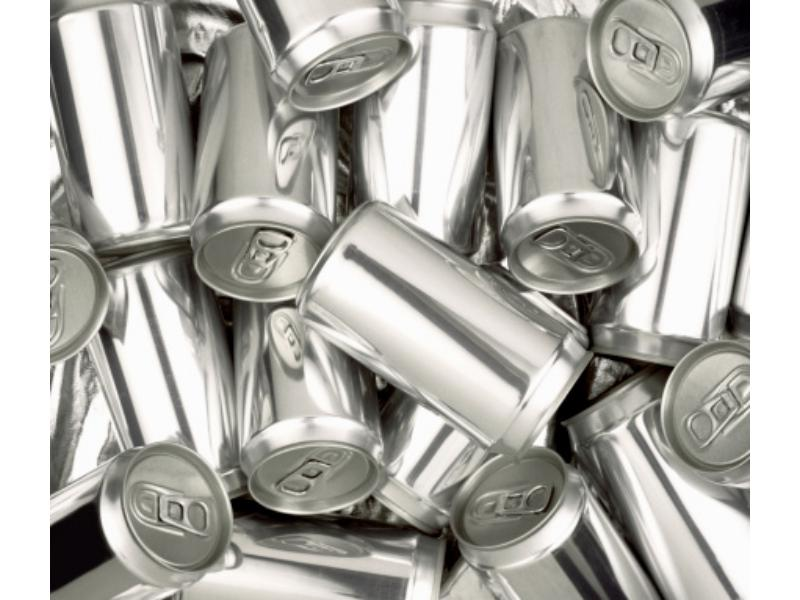can: (498, 19, 648, 291), (358, 2, 494, 258), (58, 4, 189, 244), (233, 320, 384, 515), (189, 113, 346, 296), (449, 444, 593, 600), (111, 431, 240, 587), (235, 2, 418, 108), (585, 1, 705, 117), (658, 330, 751, 475), (44, 221, 115, 371)
